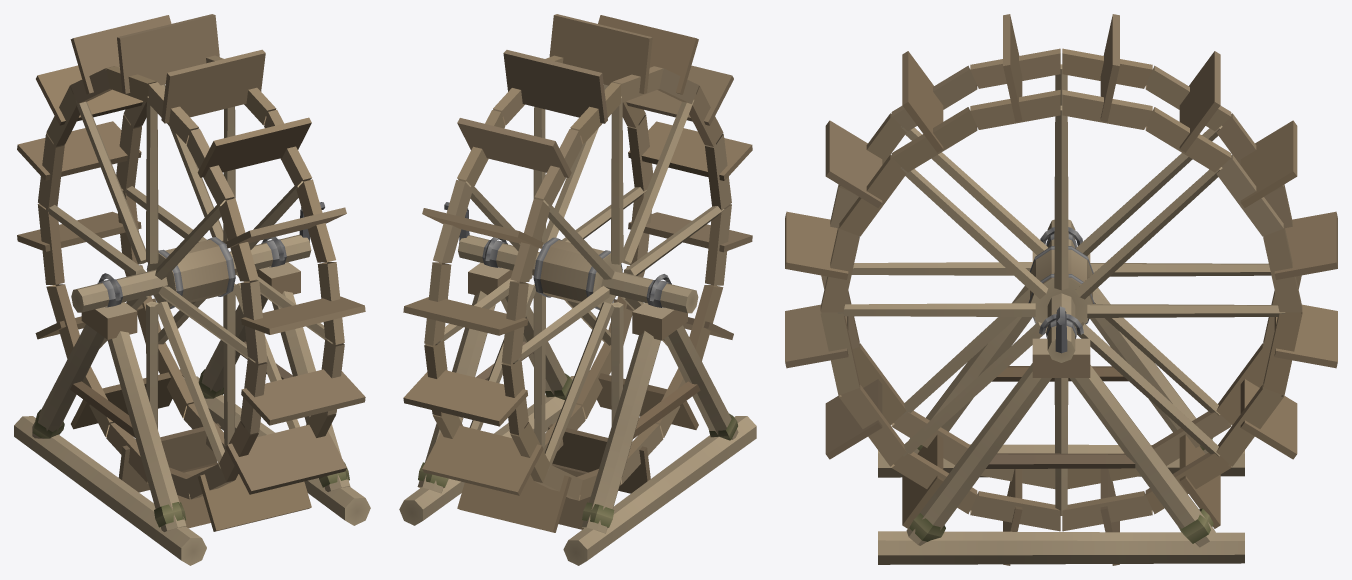
File: water_wheel_a.glb
3 views of the same model, side by side, from view 1: azimuth 30°, elevation 25°; view 2: azimuth 150°, elevation 25°; view 3: azimuth 270°, elevation 25° (orthographic). The views are drawn at different scales.
Visible parts, largest first — view 1: Wheel, Base; view 2: Wheel, Base; view 3: Wheel, Base.
Boxes of the visible parts, x1,y1,x2,y2 form: Wheel: (17,14,365,531); Base: (14,236,370,565); Wheel: (403,14,752,532); Base: (399,237,756,565); Wheel: (785,14,1337,565); Base: (878,227,1244,564).
Bounding box in the file's own units: 1.08 × 1.93 × 1.93.
